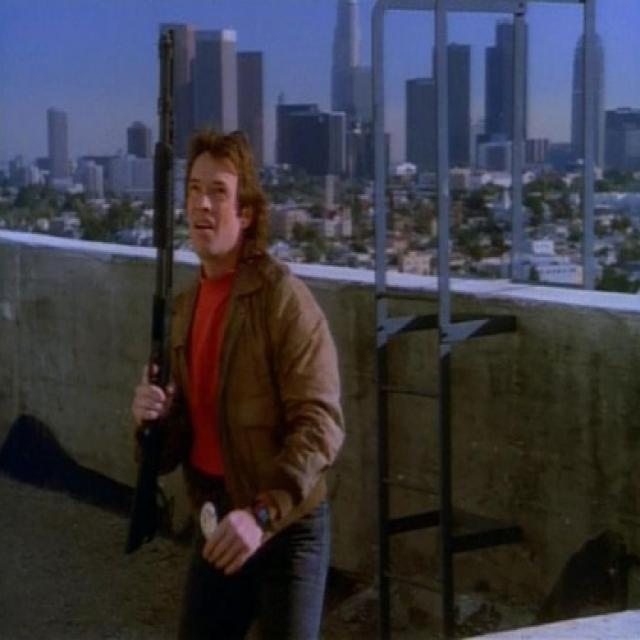rifle: (123, 19, 184, 564)
